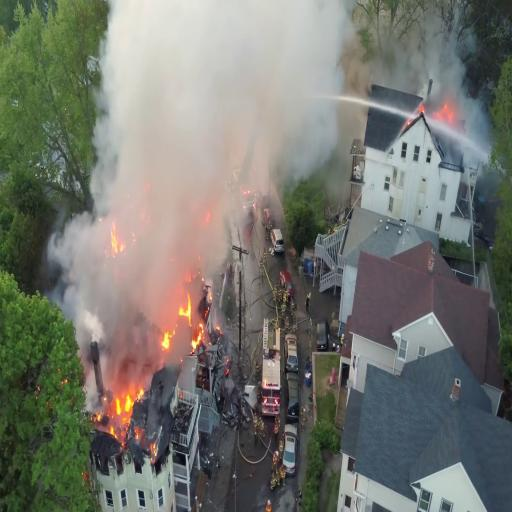fire: (111, 386, 145, 434), (178, 298, 206, 356), (106, 224, 130, 259)
smoke: (122, 0, 326, 151)
